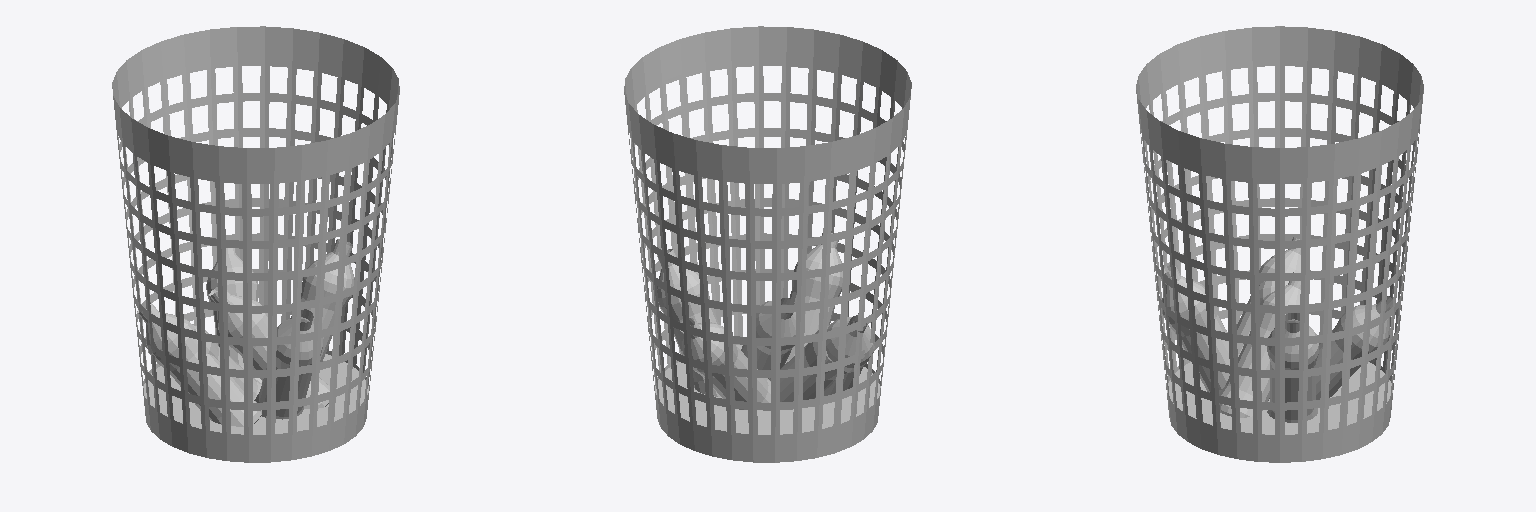
Rendered from DustbinWithCan_000042.obj.
The picture shows the model from 3 angles: view 1: azimuth 30°, elevation 25°; view 2: azimuth 150°, elevation 25°; view 3: azimuth 270°, elevation 25°; orthographic projection.
Parts seen in each view (by area): view 1: Cylinder, Plane.005, Plane.001, Plane.004, Plane.003, Plane.002, Plane.006; view 2: Cylinder, Plane.002, Plane.001, Plane.003, Plane.004, Plane.005, Plane.006; view 3: Cylinder, Plane.001, Plane.004, Plane.003, Plane.002, Plane.005.
Boxes of the visible parts, box(x1,y1,x2,y2) form: Cylinder: box(112, 26, 399, 462); Plane.005: box(137, 302, 261, 426); Plane.001: box(254, 309, 322, 419); Plane.004: box(209, 286, 329, 408); Plane.003: box(290, 239, 354, 361); Plane.002: box(206, 248, 261, 382); Plane.006: box(168, 320, 261, 399); Cylinder: box(624, 26, 911, 462); Plane.002: box(680, 318, 770, 409); Plane.001: box(785, 233, 842, 363); Plane.003: box(657, 249, 720, 396); Plane.004: box(741, 298, 795, 378); Plane.005: box(824, 315, 874, 395); Plane.006: box(769, 321, 868, 401); Cylinder: box(1136, 26, 1423, 462); Plane.001: box(1162, 265, 1238, 393); Plane.004: box(1219, 272, 1300, 417); Plane.003: box(1267, 313, 1318, 422); Plane.002: box(1316, 296, 1392, 399); Plane.005: box(1237, 237, 1300, 354).
Size of the model in its own units: 2.6 by 3.36 by 2.6.